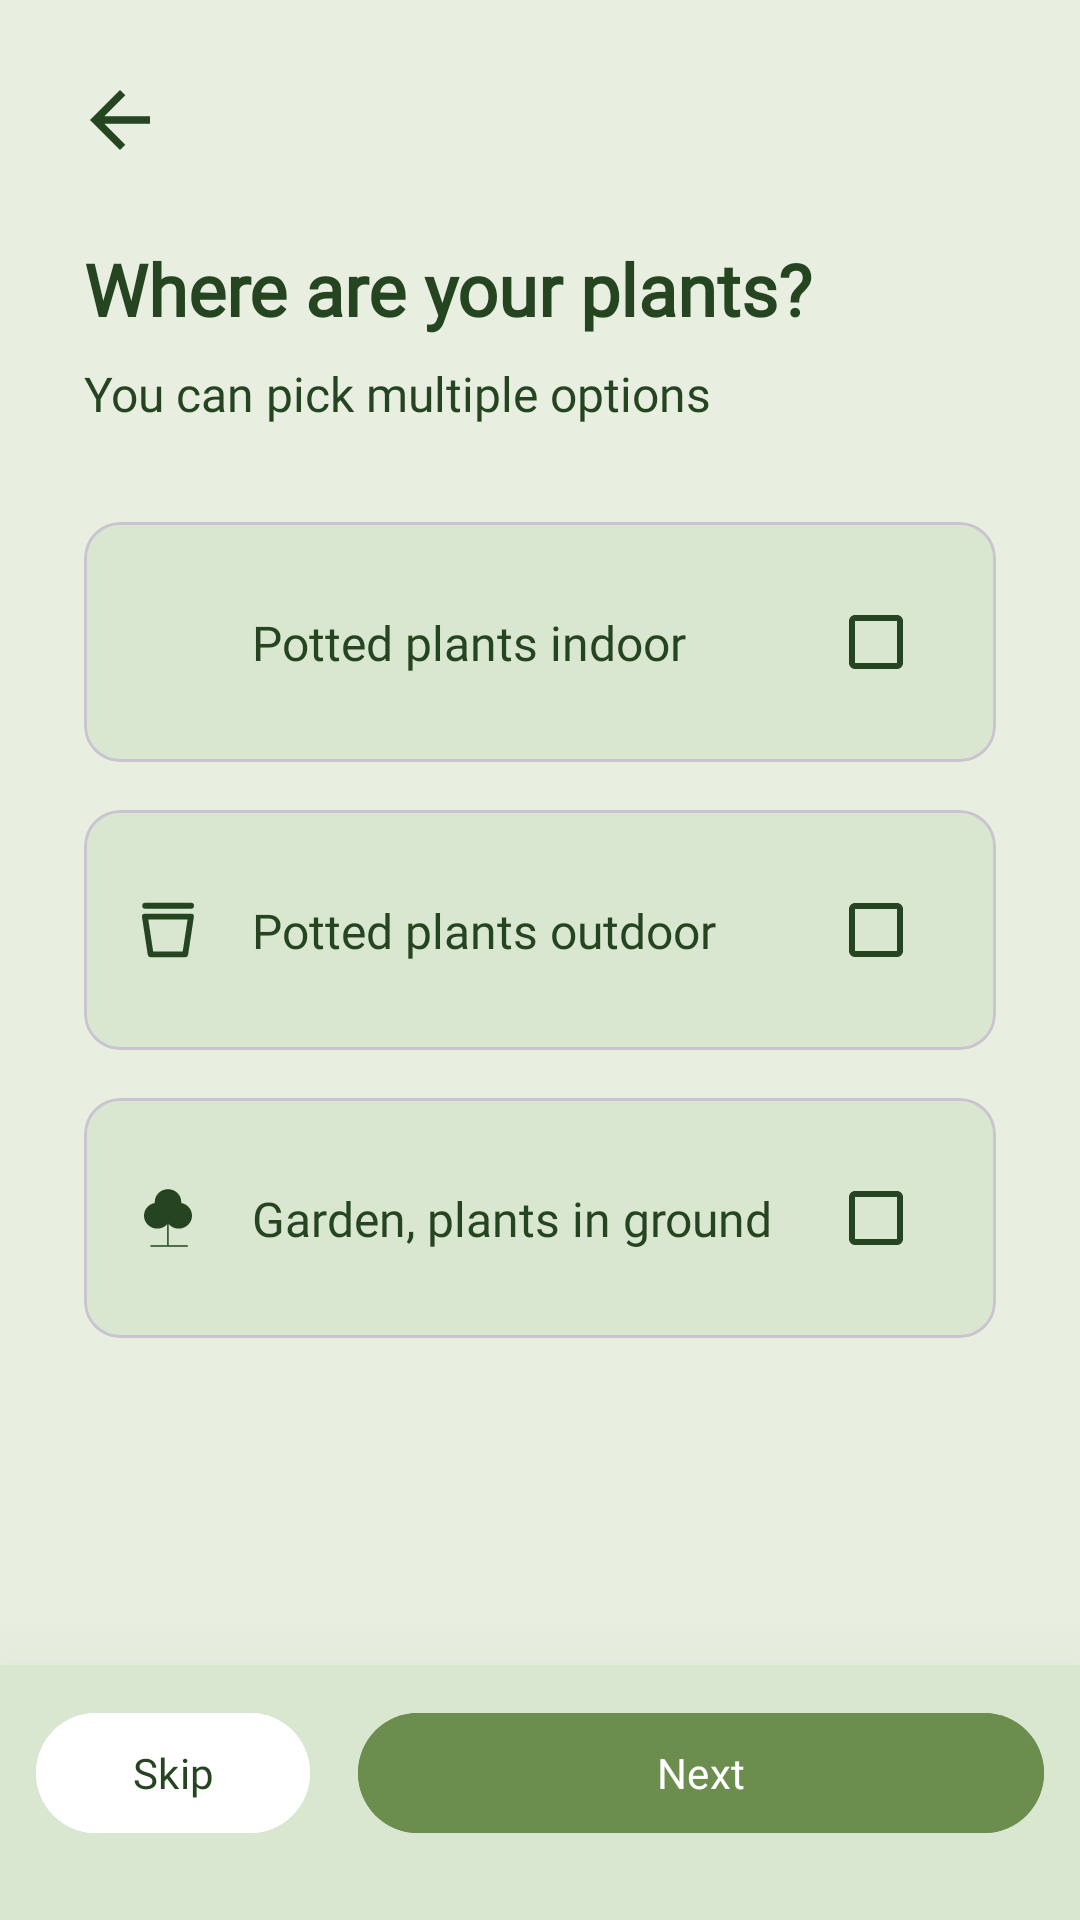

Where icons sit on this 1080x1920 app screen, as {"x1": x1, "y1": y1, "x2": x2, "y2": y2}:
Back: {"x1": 90, "y1": 90, "x2": 150, "y2": 150}
pot: {"x1": 142, "y1": 902, "x2": 194, "y2": 958}
tree: {"x1": 144, "y1": 1189, "x2": 192, "y2": 1247}
